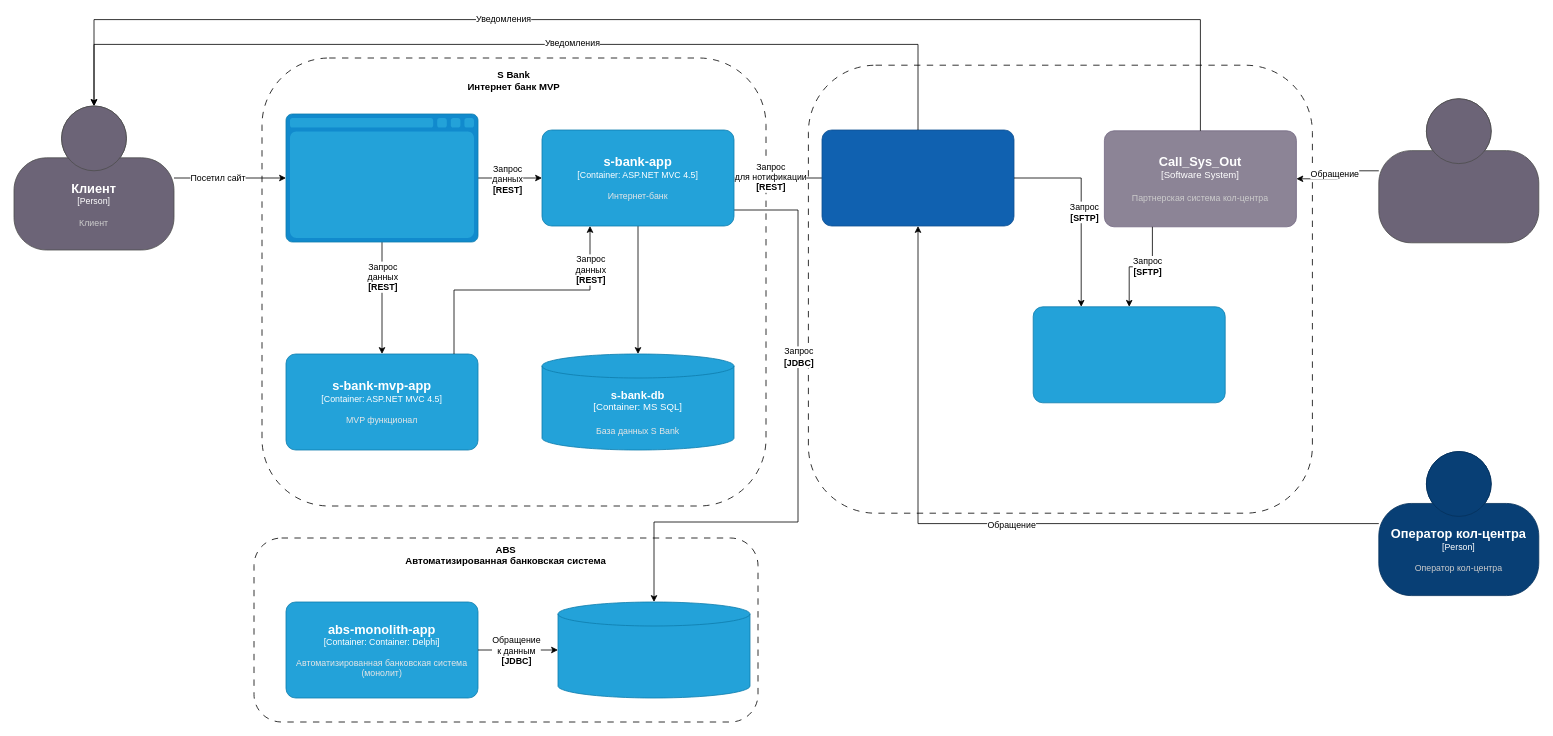
This 1553x736 diagram has some shape labels left out. Here are the shapes that lost their labels. From the top down, the centre of each, then its label:
At point (381, 177): "s-bank-web [Container: ASP.NET MVC 4.5 (View)] Веб-приложение".
At point (917, 177): "Call_Sys_In [Software System] Система кол-центра".
At point (1458, 170): "Оператор партнерского кол-центра [Person] Оператор партнерского кол-центра".
At point (1128, 354): "caller-mq-sftp [Container: SFTP] SFTP сервер для передачи файлов".
At point (653, 649): "abs-monolith-db [Container: Oracle DB] База данных для АБС".
